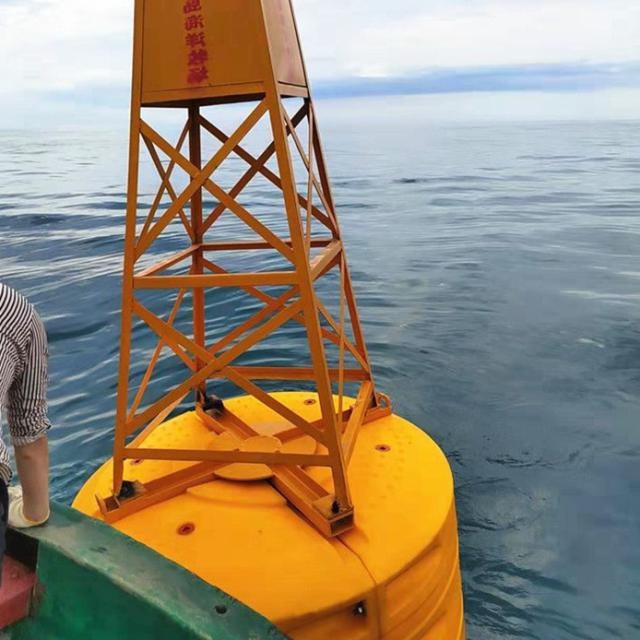buoy: (74, 0, 464, 640)
